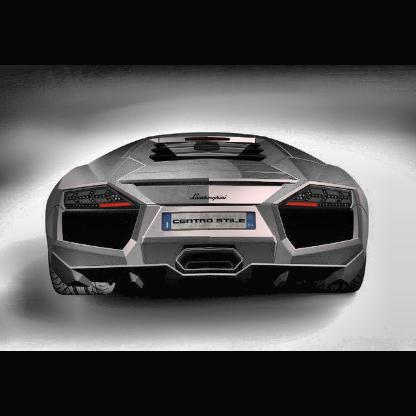Lamborghini Reventon Coupe 2008: (46, 133, 370, 300)
